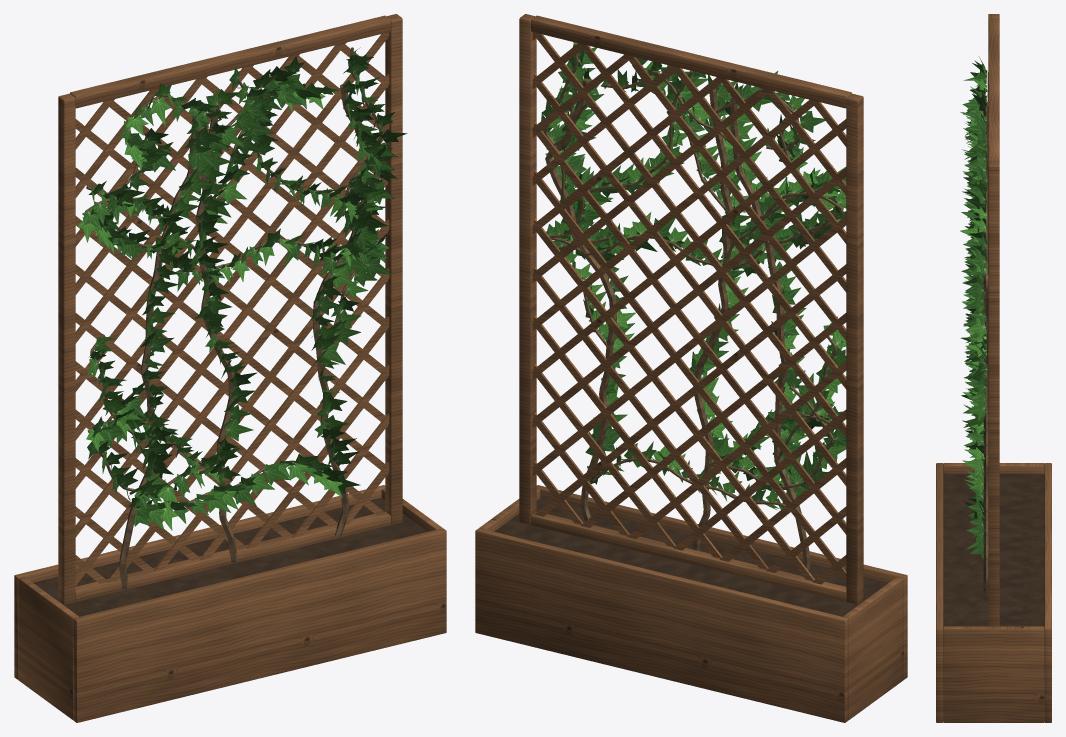
The model's file is ivy-trellis.glb.
3 views of the same model, side by side, from view 1: azimuth 30°, elevation 25°; view 2: azimuth 150°, elevation 25°; view 3: azimuth 270°, elevation 25° (orthographic). The views are drawn at different scales.
Visible parts, largest first — view 1: Ivy_Trellis; view 2: Ivy_Trellis; view 3: Ivy_Trellis.
Boxes of the visible parts, x1,y1,x2,y2 form: Ivy_Trellis: (14, 14, 446, 722); Ivy_Trellis: (475, 14, 907, 722); Ivy_Trellis: (936, 14, 1051, 722).
Size of the model in its own units: 1.36 by 2.12 by 0.4.
Materials: 5 (5 with a texture image).
